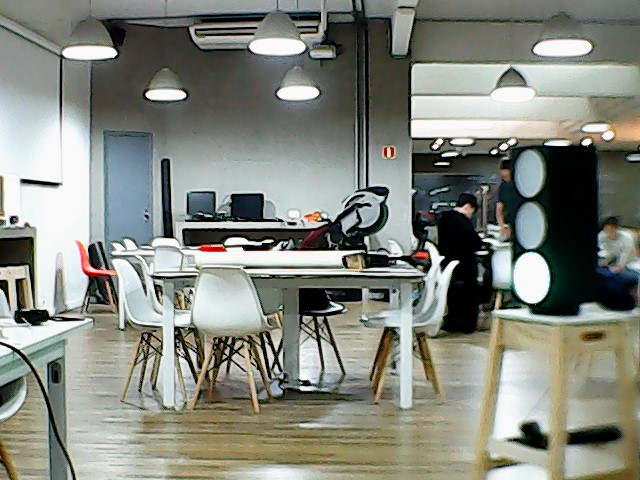verde: (507, 141, 607, 310)
